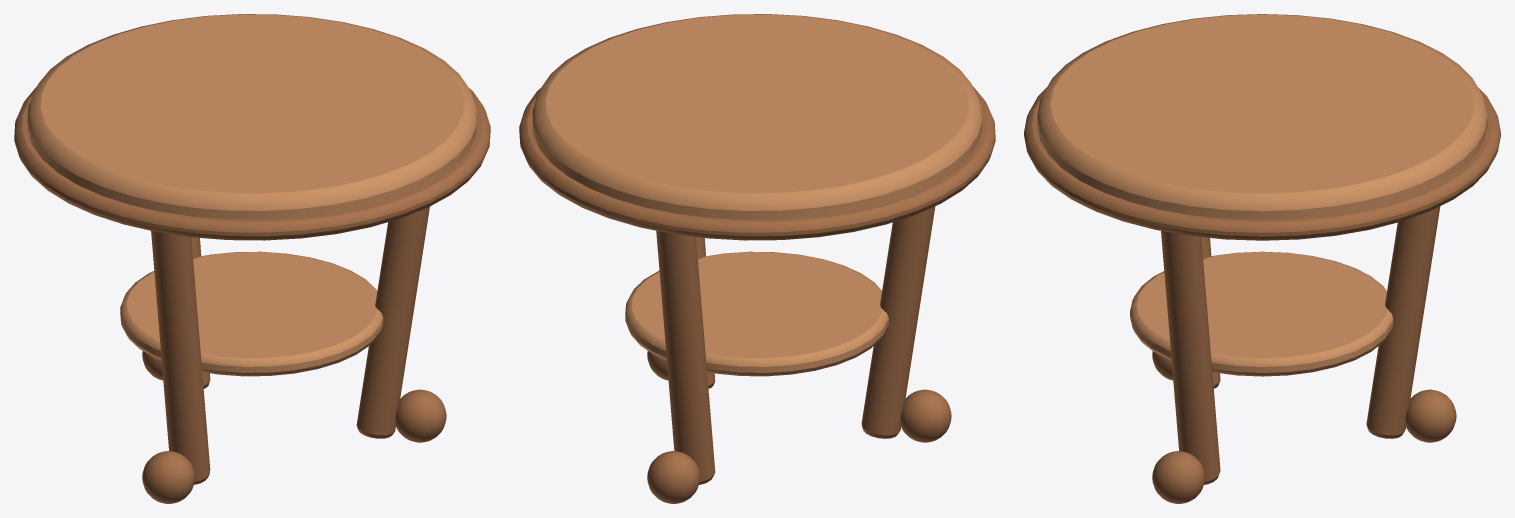
File: prop-sidetable.glb
3 views of the same model, side by side, from view 1: azimuth 30°, elevation 25°; view 2: azimuth 150°, elevation 25°; view 3: azimuth 270°, elevation 25° (orthographic).
Parts seen in each view (by area): view 1: Top, LowShelf, Rim, Leg1, Leg2, Foot1, Foot2; view 2: Top, LowShelf, Rim, Leg0, Leg1, Foot0, Foot1; view 3: Top, LowShelf, Rim, Leg2, Leg0, Foot2, Foot0.
Boxes of the visible parts, x1,y1,x2,y2 form: Top: (27, 14, 477, 219); LowShelf: (120, 251, 383, 376); Rim: (14, 86, 490, 240); Leg1: (151, 231, 210, 484); Leg2: (356, 206, 429, 438); Foot1: (142, 451, 194, 503); Foot2: (395, 389, 446, 442); Top: (532, 14, 982, 219); LowShelf: (625, 251, 888, 376); Rim: (519, 86, 995, 240); Leg0: (656, 230, 715, 484); Leg1: (861, 206, 935, 438); Foot0: (647, 451, 699, 503); Foot1: (900, 389, 951, 442); Top: (1037, 14, 1487, 220); LowShelf: (1130, 251, 1393, 376); Rim: (1024, 87, 1500, 240); Leg2: (1161, 231, 1220, 484); Leg0: (1366, 206, 1440, 438); Foot2: (1152, 451, 1205, 503); Foot0: (1405, 389, 1456, 442).
Bounding box in the file's own units: 0.72 × 0.56 × 0.72.
